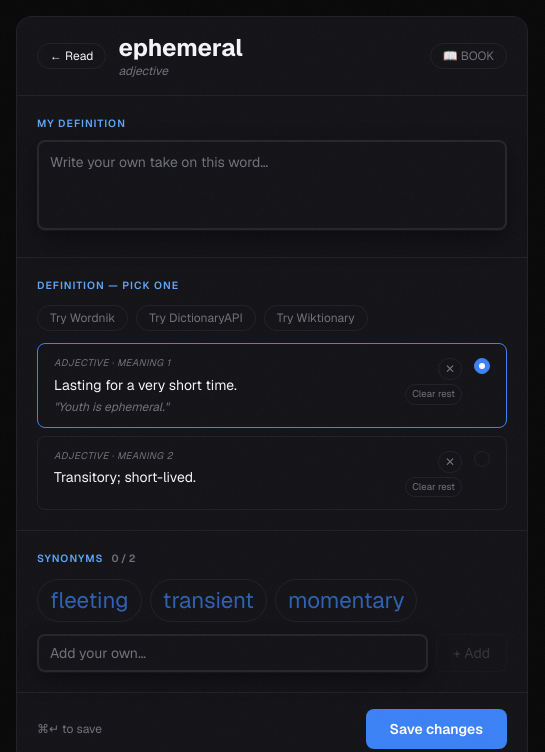
Scenario: WordPage › toggling synonym updates counter
Click the button "fleeting" at x=89, y=601, box [37, 579, 142, 622]
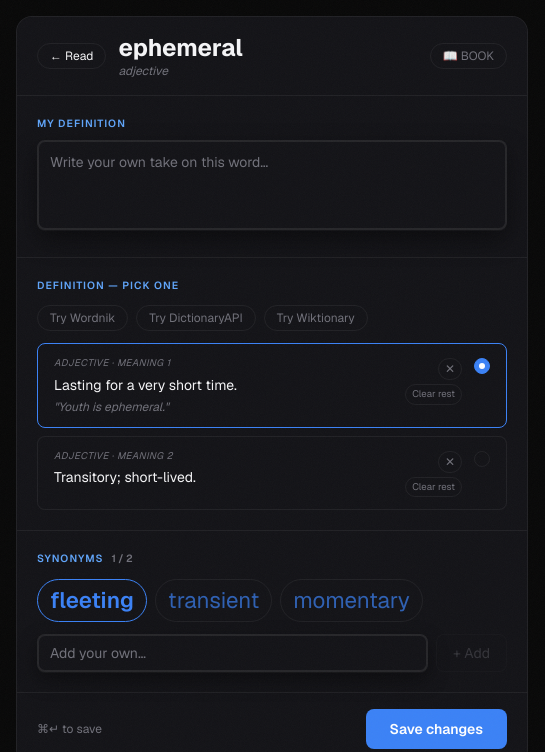
Expected: the text "1 / 2" is shown, [112, 551, 133, 567]
Click the button "transient" at x=214, y=601, box [155, 579, 272, 622]
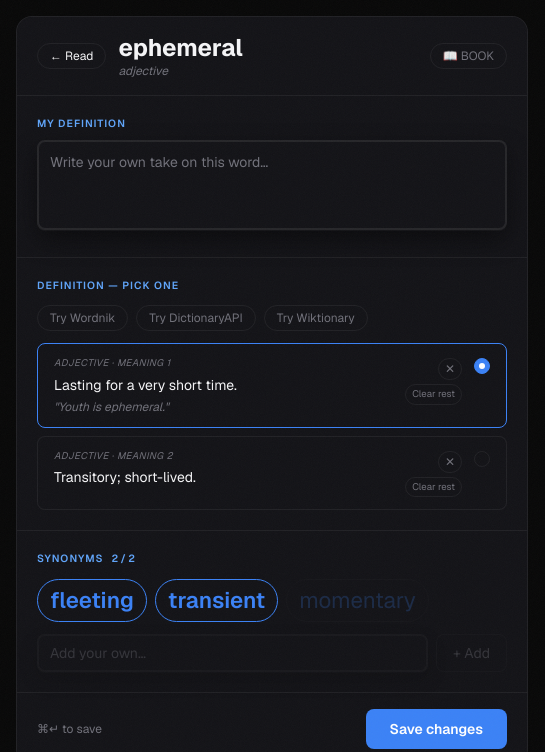
Expected: the text "2 / 2" is shown, [112, 551, 135, 567]
